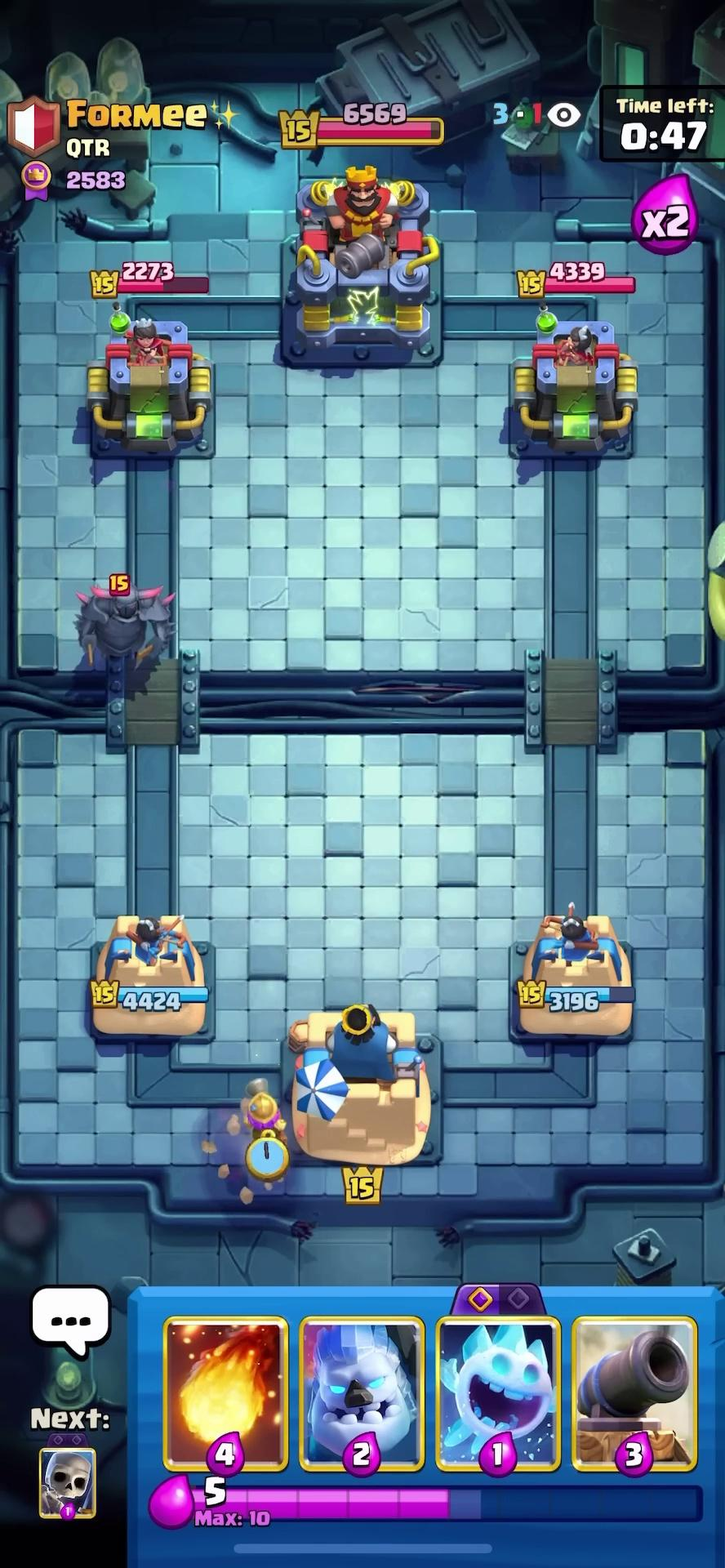musketeer: (227, 1068, 288, 1166)
